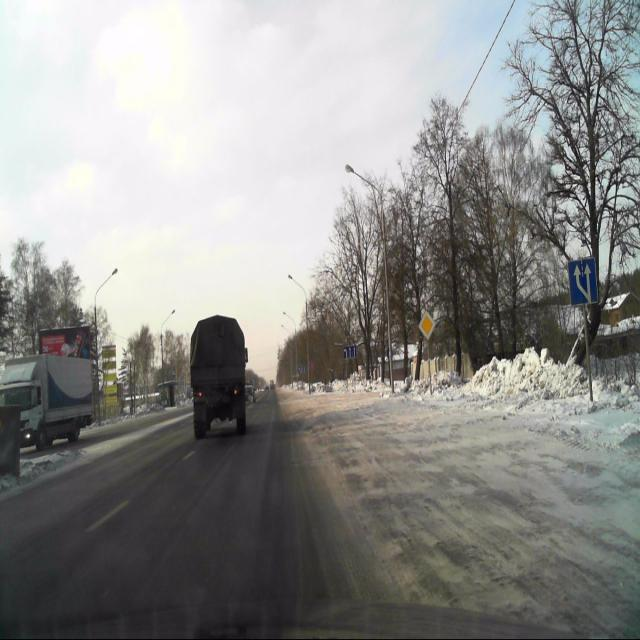object: (582, 308, 594, 403)
road sign: (568, 259, 600, 306), (418, 312, 434, 341)
